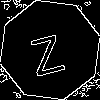Z: (25, 25, 67, 77)
